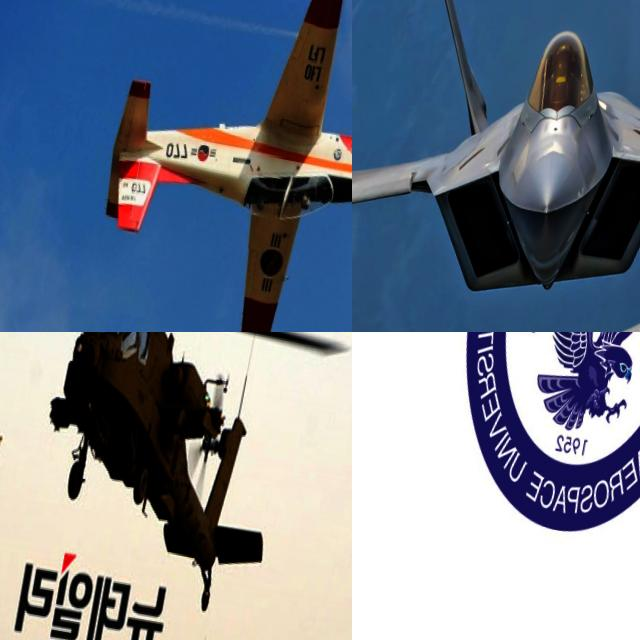Apache: (0, 332, 352, 638)
F22: (352, 0, 640, 332)
KAU_Marker: (428, 332, 640, 556)
KT-1: (80, 0, 352, 332)
